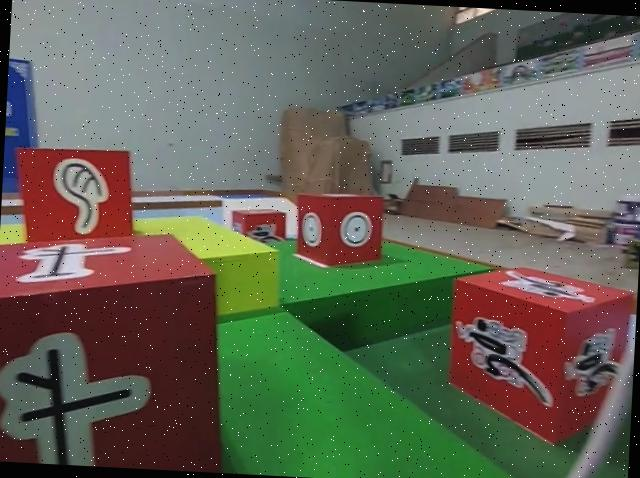R1: (446, 264, 633, 451), (231, 205, 289, 255)
R2 Fake: (13, 145, 138, 259)
R2 Real: (0, 222, 237, 473), (294, 187, 387, 271)
